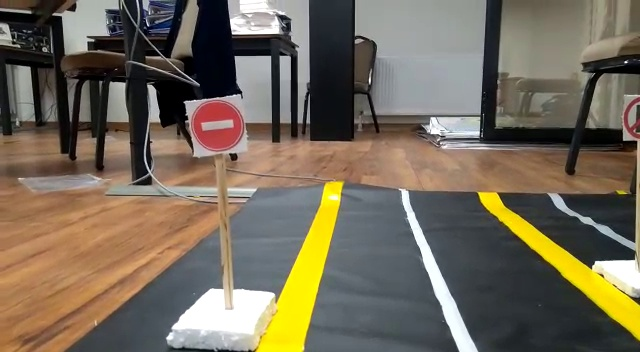girisi_olmayan_yol: (190, 96, 245, 151)
